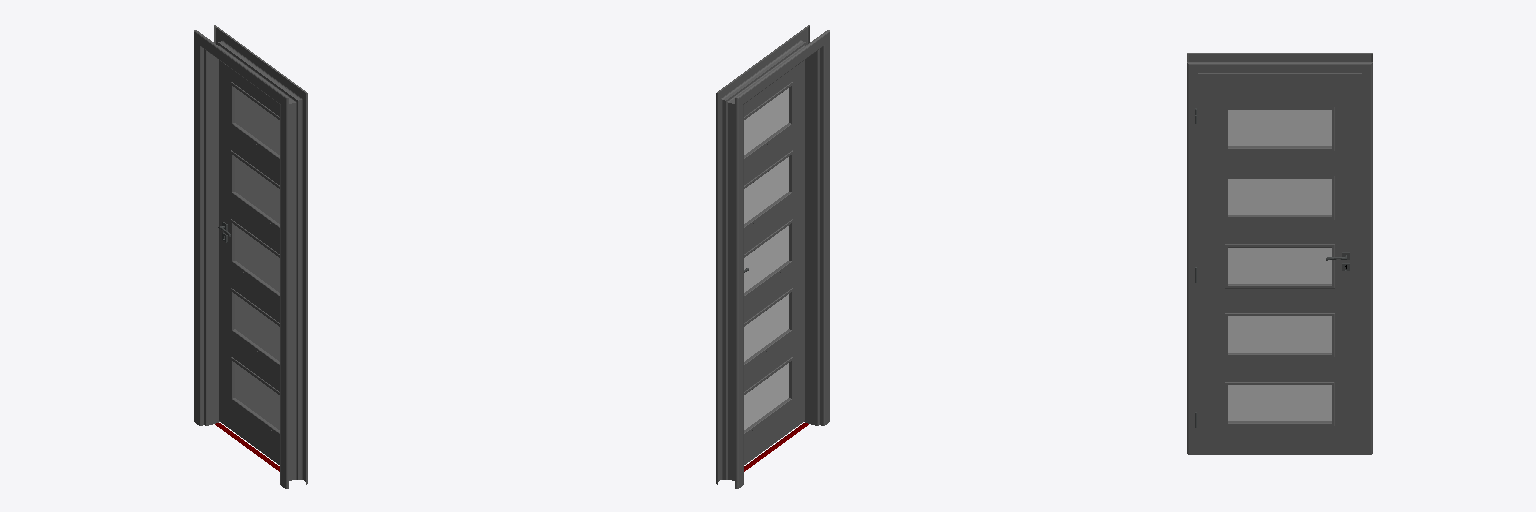
File: door.obj
3 renders of one model, left to right at view 1: azimuth 30°, elevation 25°; view 2: azimuth 150°, elevation 25°; view 3: azimuth 270°, elevation 25°, orthographic.
Parts seen in each view (by area): view 1: ram.002, dvere.002; view 2: ram.002, dvere.002; view 3: dvere.002, ram.002.
Part boxes in pixels (x1,y1,x2,y2): ram.002: (194,25,307,488); dvere.002: (218,60,279,464); ram.002: (716,25,829,488); dvere.002: (744,60,804,464); dvere.002: (1195,73,1361,454); ram.002: (1187,53,1372,454).
Bounding box in the file's own units: 0.1728 × 2.01 × 0.8599.